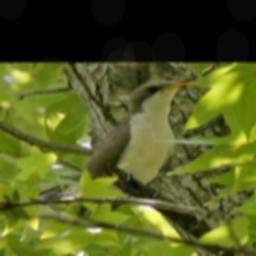Cuckoo: (37, 75, 198, 217)
